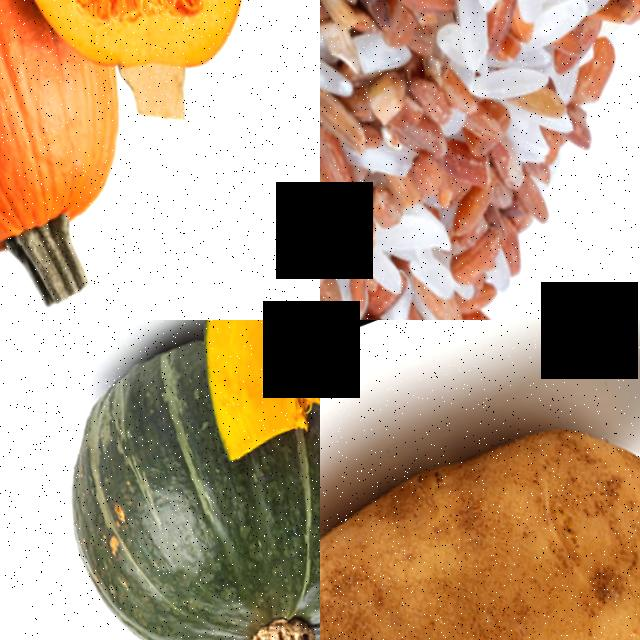potato: (320, 356, 640, 640)
pumpkin: (61, 402, 320, 640), (0, 0, 130, 302), (0, 0, 300, 120), (139, 320, 320, 484)
red rice: (320, 0, 640, 320)
